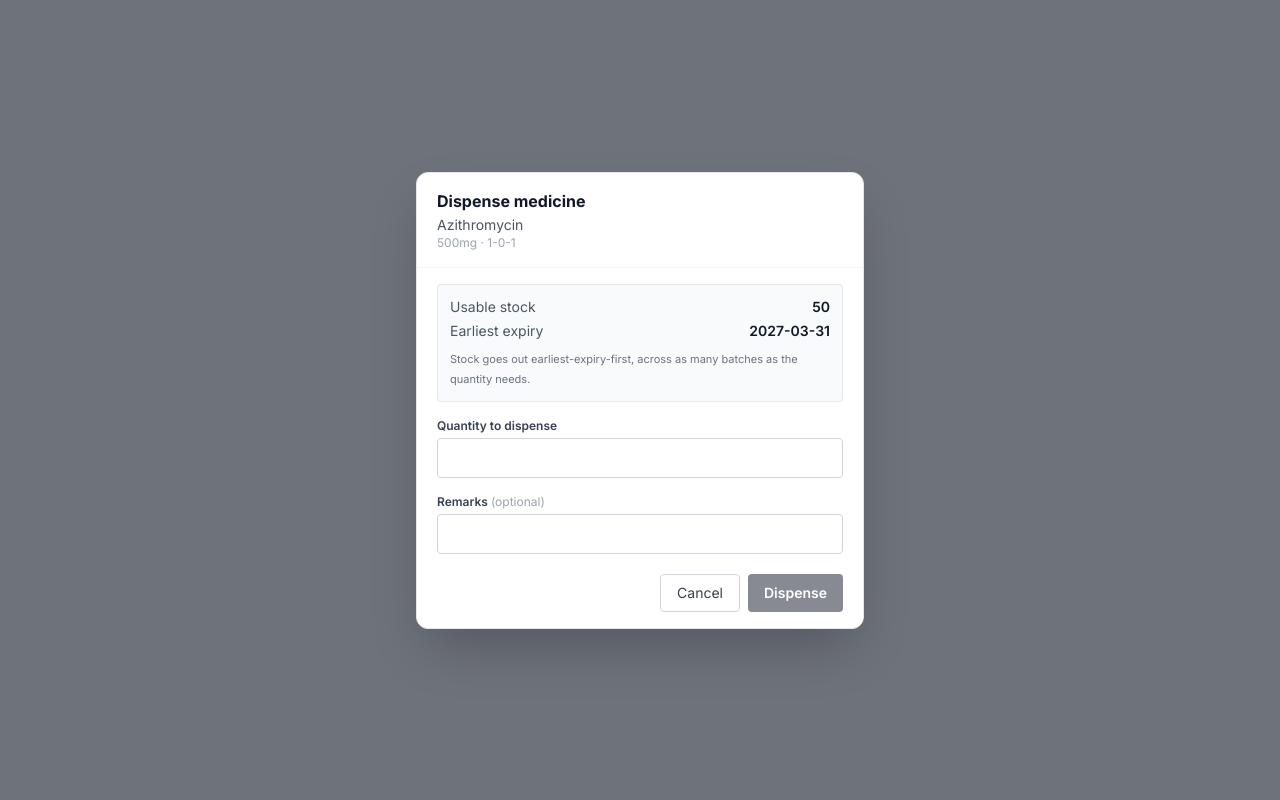
Test: DispenseModal › refuses a quantity larger than the usable stock before it reaches the server
Type "51" into the number field labelled "Quantity to dispense" at (640, 458), box [437, 438, 843, 478]
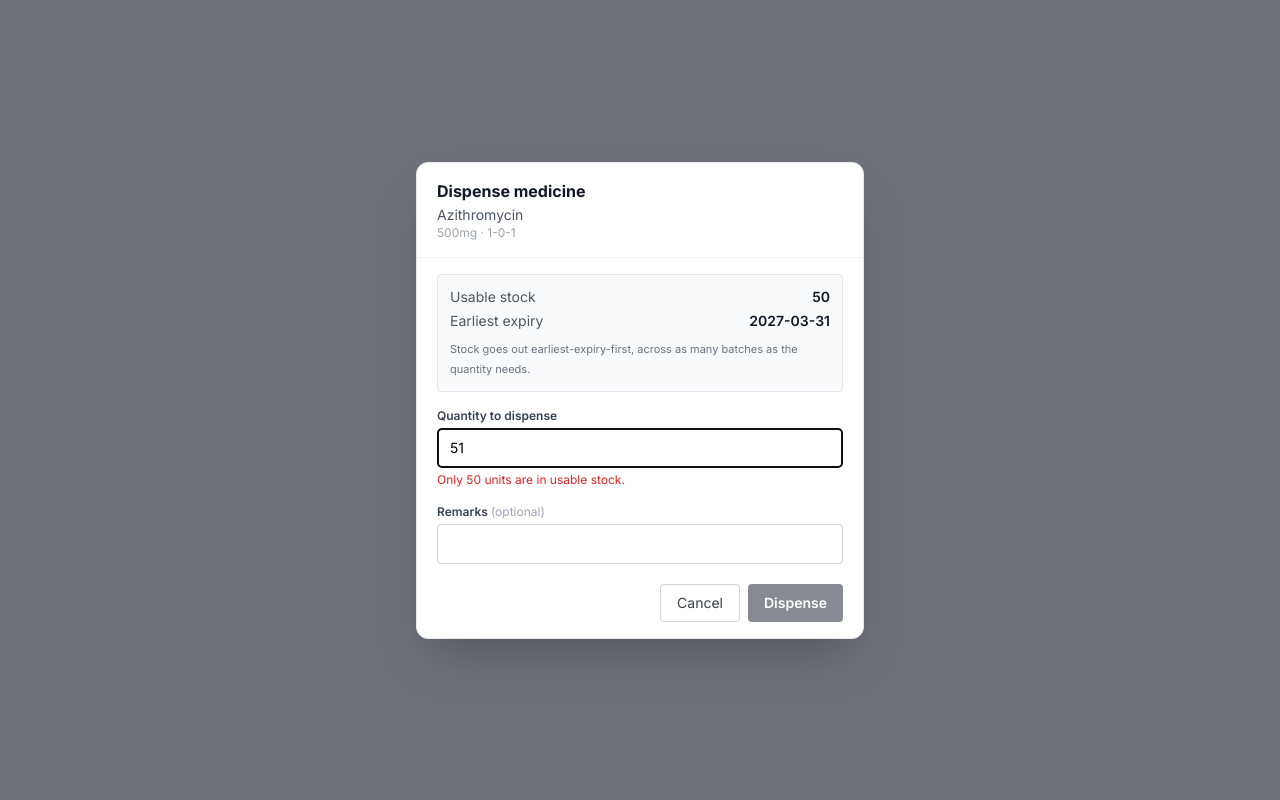
Check: the button "Dispense" is disabled, box [748, 584, 843, 622]
Check: the text "Only 50 units are in usable stock." is shown, box [437, 472, 625, 486]
